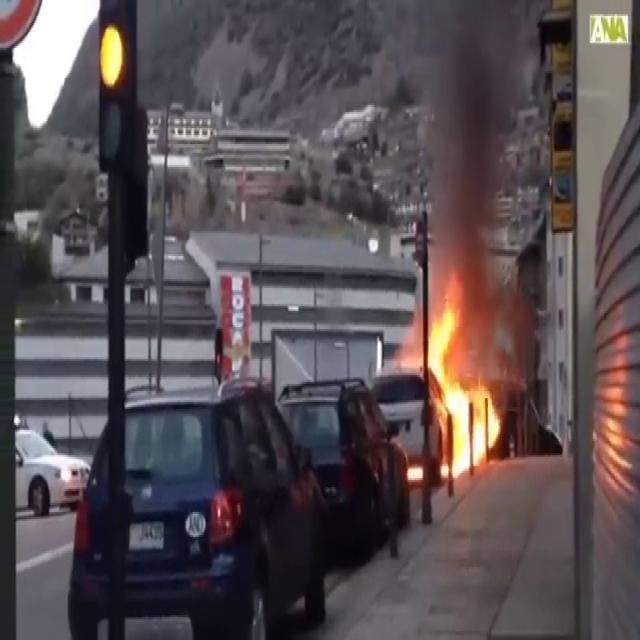Fire: (418, 277, 502, 478)
Smoke: (414, 1, 530, 286)
